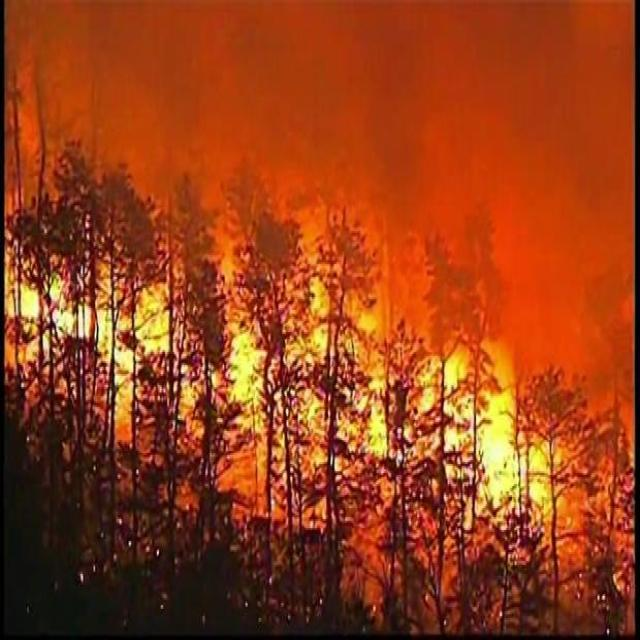Fire: (0, 179, 629, 566)
Smoke: (5, 0, 640, 367)
